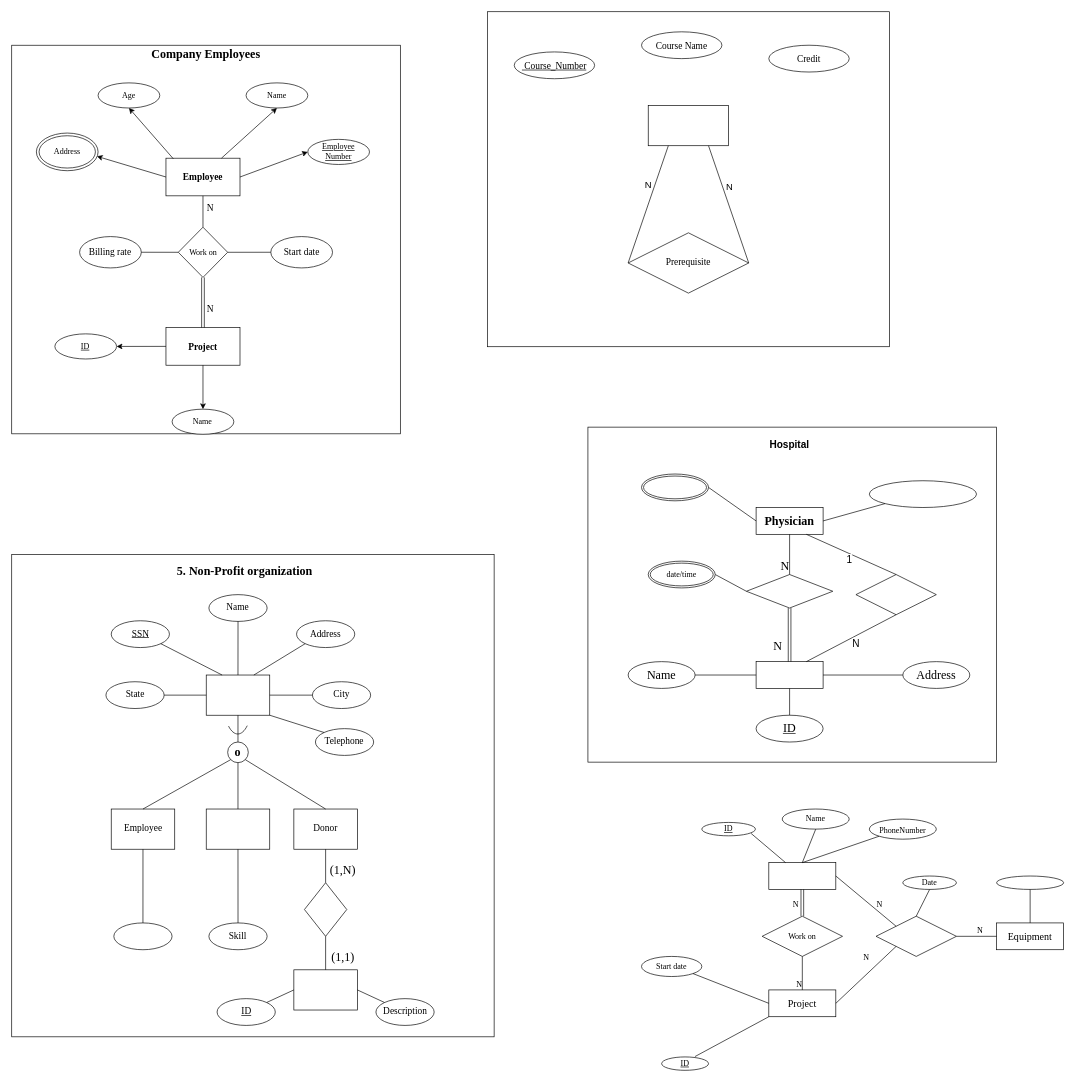
This 1075x1082 diagram has some shape labels left out. The box of each missing label's shape, as (x1, y1, x2, y2) in pixels:
Admitted: (855, 574, 936, 615)
Chemist: (768, 862, 836, 889)
Course: (648, 105, 729, 146)
Date_Hired: (113, 922, 172, 950)
Donated: (304, 882, 347, 936)
Item: (293, 969, 357, 1010)
Patient: (755, 661, 823, 688)
Person: (206, 674, 270, 715)
physicians number: (869, 480, 977, 508)
Serial number: (996, 875, 1064, 889)
Specialty: (641, 473, 709, 501)
Treated by: (746, 574, 833, 608)
Use: (875, 916, 956, 956)
Volunteer: (206, 808, 270, 849)
